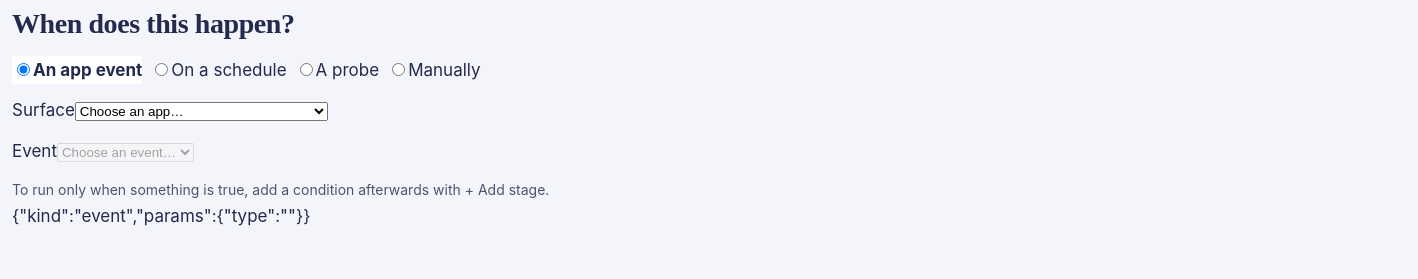
Test: run-finished triggers (d21) › asks for a condition on the run's workflow, only for run events
The image size is (1418, 279).
Select "Rules engine (a run finished)" in the dropdown labelled "Surface" at (201, 112), box [75, 102, 328, 122]
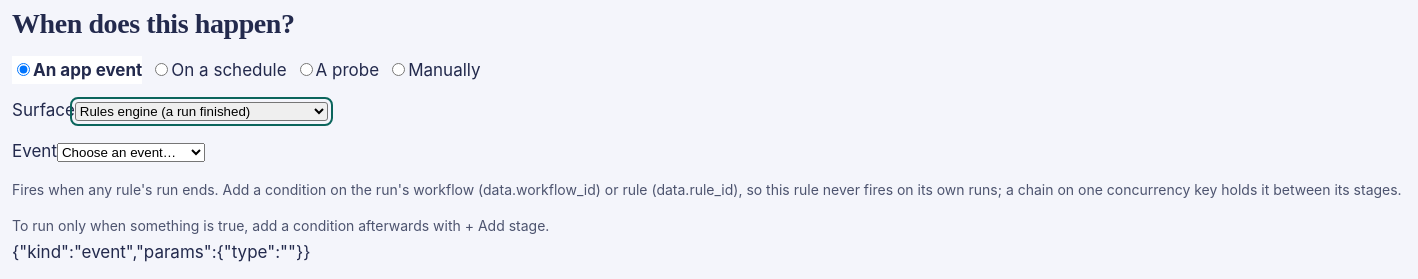
Check: the text with test id "run-event-hint" shows "data.workflow_id", box [12, 181, 1402, 198]
